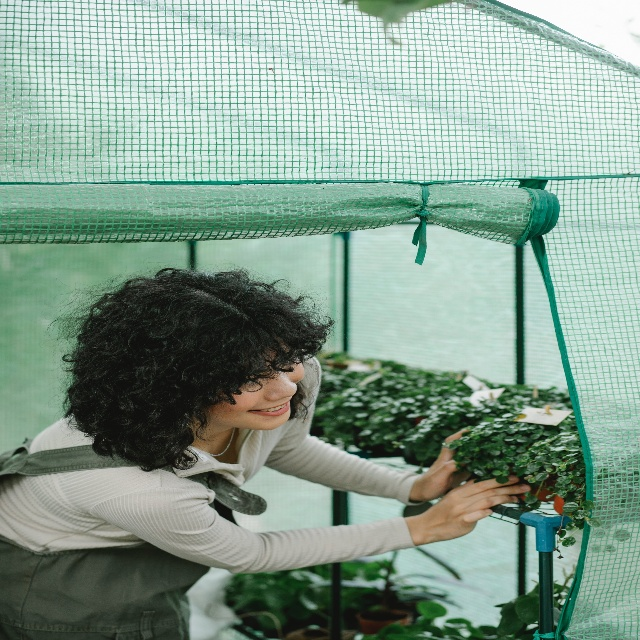Sin_guantes: (421, 474, 531, 544), (418, 425, 469, 503)
